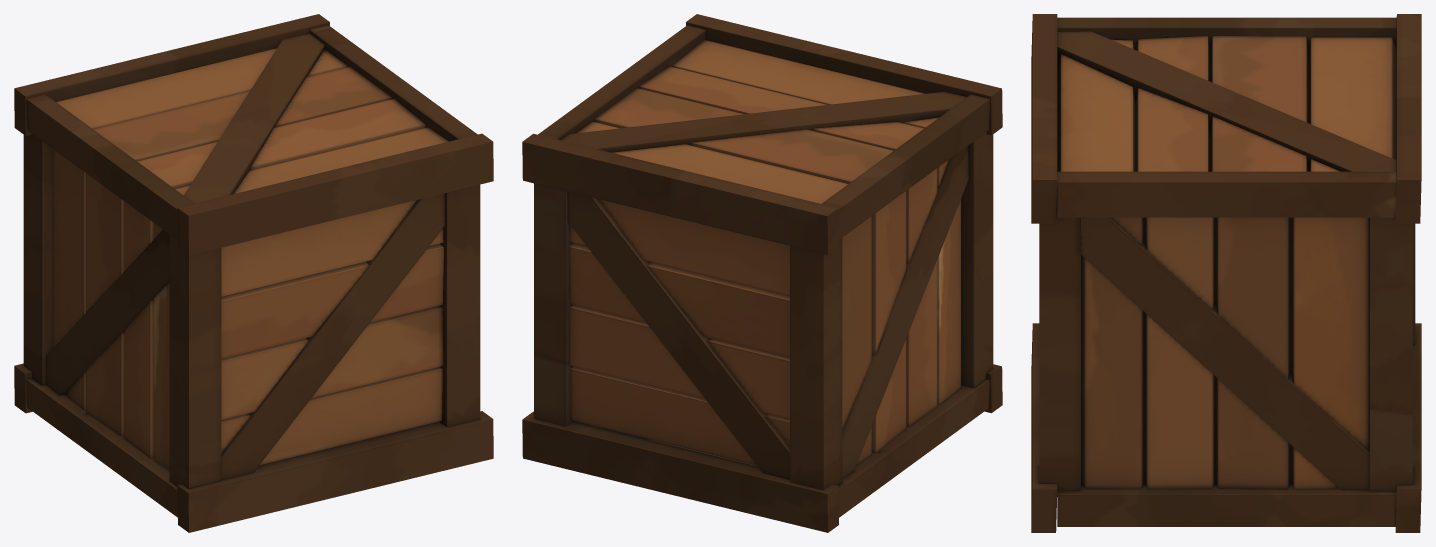
The model's file is CaisseGrande_B.FBX.
The picture shows the model from 3 angles, left to right: view 1: azimuth 30°, elevation 25°; view 2: azimuth 150°, elevation 25°; view 3: azimuth 270°, elevation 25°; orthographic projection. The views are drawn at different scales.
Parts seen in each view (by area): view 1: Caisse_GrandeB; view 2: Caisse_GrandeB; view 3: Caisse_GrandeB.
Part boxes in pixels (box(x1,y1,x2,y2)): Caisse_GrandeB: box(14, 14, 493, 532); Caisse_GrandeB: box(522, 14, 1002, 532); Caisse_GrandeB: box(1031, 14, 1421, 532).
Size of the model in its own units: 3.98 by 3.95 by 3.95.
